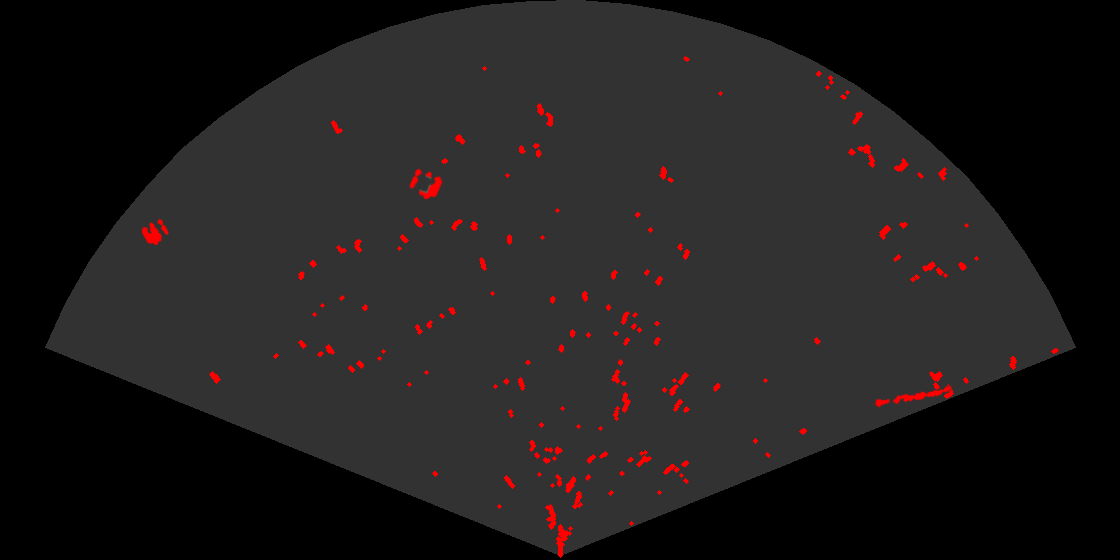ball: (408, 167, 444, 201), (140, 217, 170, 247)
chain: (872, 384, 954, 409)
